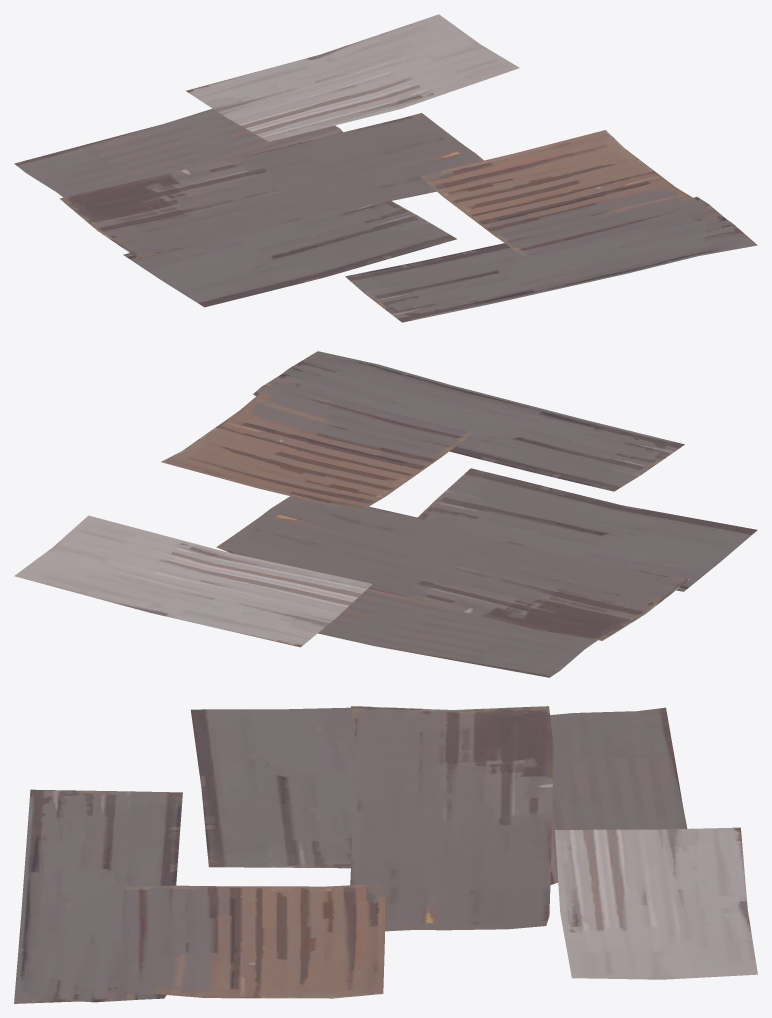
The picture shows the model from 3 angles, top to bottom: view 1: azimuth 30°, elevation 25°; view 2: azimuth 150°, elevation 25°; view 3: azimuth 270°, elevation 25°; orthographic projection. The views are drawn at different scales.
Parts seen in each view (by area): view 1: body0_model0_lod0_mesh0; view 2: body0_model0_lod0_mesh0; view 3: body0_model0_lod0_mesh0.
Part boxes in pixels (bbox=[...]): body0_model0_lod0_mesh0: bbox=[14, 14, 757, 322]; body0_model0_lod0_mesh0: bbox=[14, 351, 757, 677]; body0_model0_lod0_mesh0: bbox=[14, 706, 757, 1003].
Bounding box in the file's own units: 254 × 8.71 × 270.
Materials: 1 (1 with a texture image).
